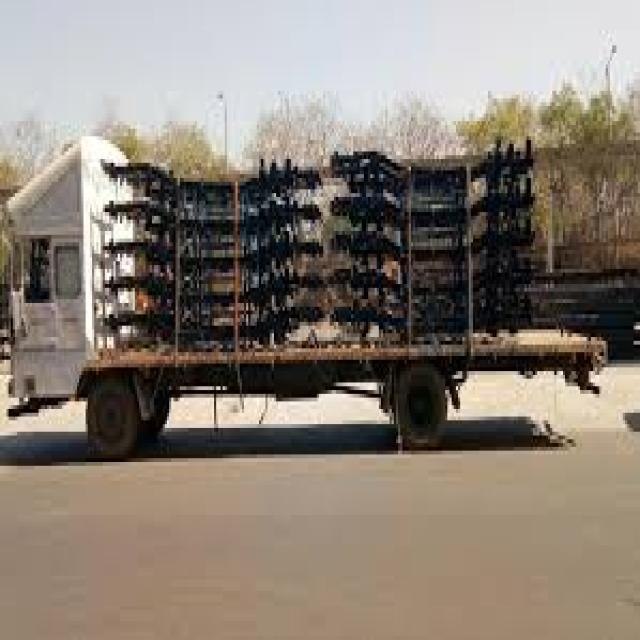uncovered: (6, 134, 598, 448)
